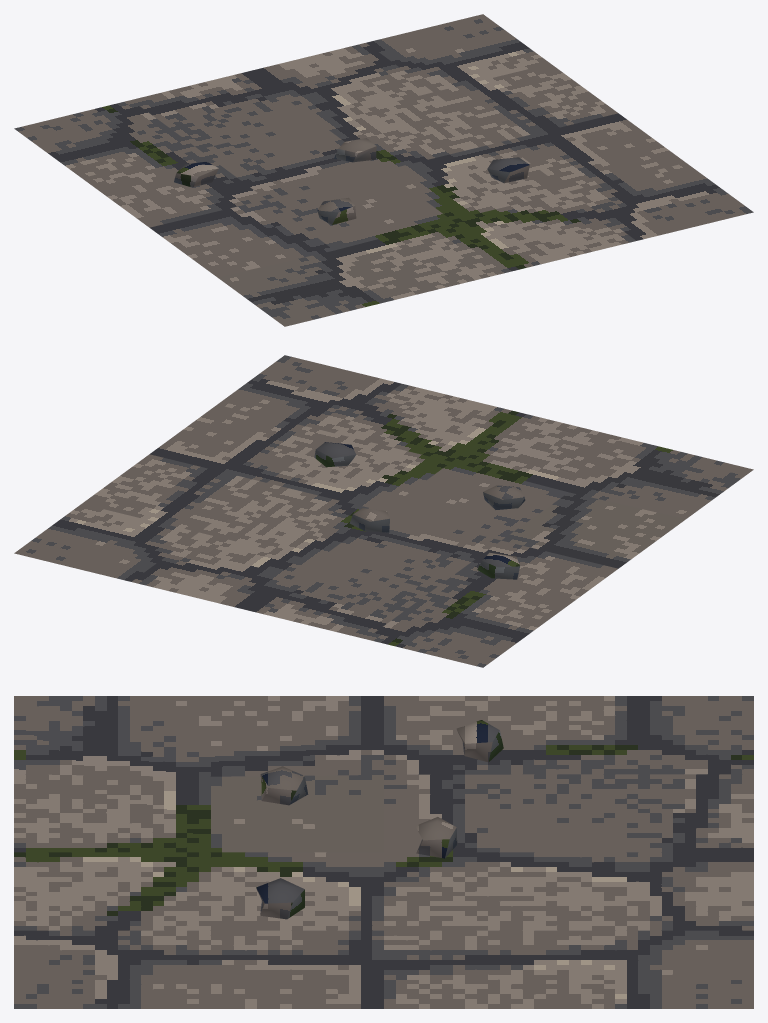
File: dgn.floor__cracked.glb
The picture shows the model from 3 angles, top to bottom: view 1: azimuth 30°, elevation 25°; view 2: azimuth 150°, elevation 25°; view 3: azimuth 270°, elevation 25°; orthographic projection. The views are drawn at different scales.
Visible parts, largest first — view 1: kit_shell_floor, kit_chips; view 2: kit_shell_floor, kit_chips; view 3: kit_shell_floor, kit_chips.
Part boxes in pixels (x1,y1,x2,y2): kit_shell_floor: (14,14,753,326); kit_chips: (174,138,529,224); kit_shell_floor: (14,355,753,667); kit_chips: (314,442,525,579); kit_shell_floor: (14,696,753,1008); kit_chips: (256,720,503,919).
Bounding box in the file's own units: 4 × 0.1651 × 4.
Materials: 2 (2 with a texture image).
